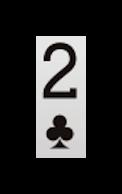2C: (40, 38, 81, 153)
